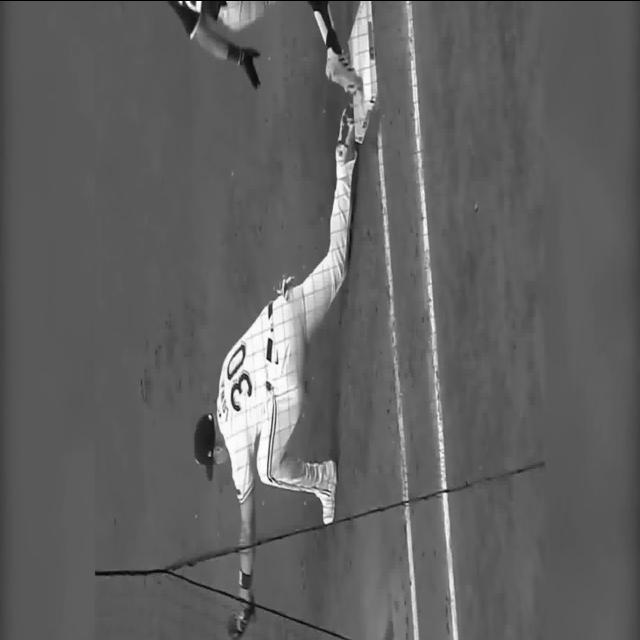base: (349, 0, 378, 142)
baseball_glove: (228, 598, 255, 640)
shoe: (325, 47, 362, 93), (314, 460, 338, 522), (335, 107, 358, 164)
